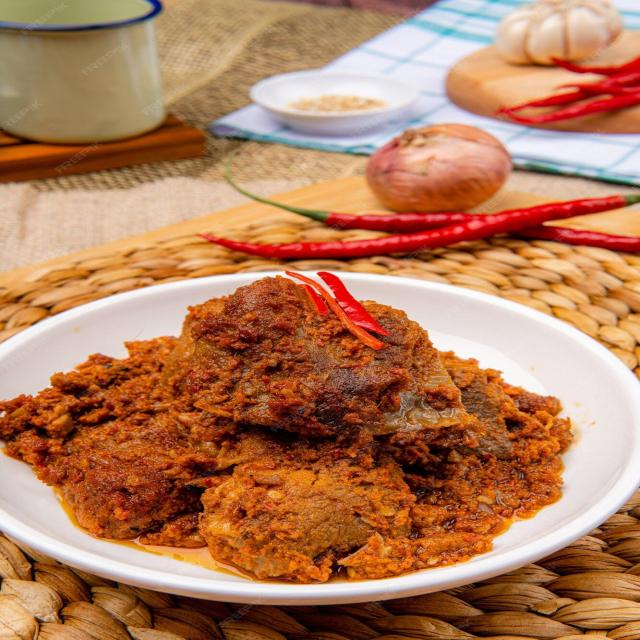Rendang: (10, 268, 606, 578)
